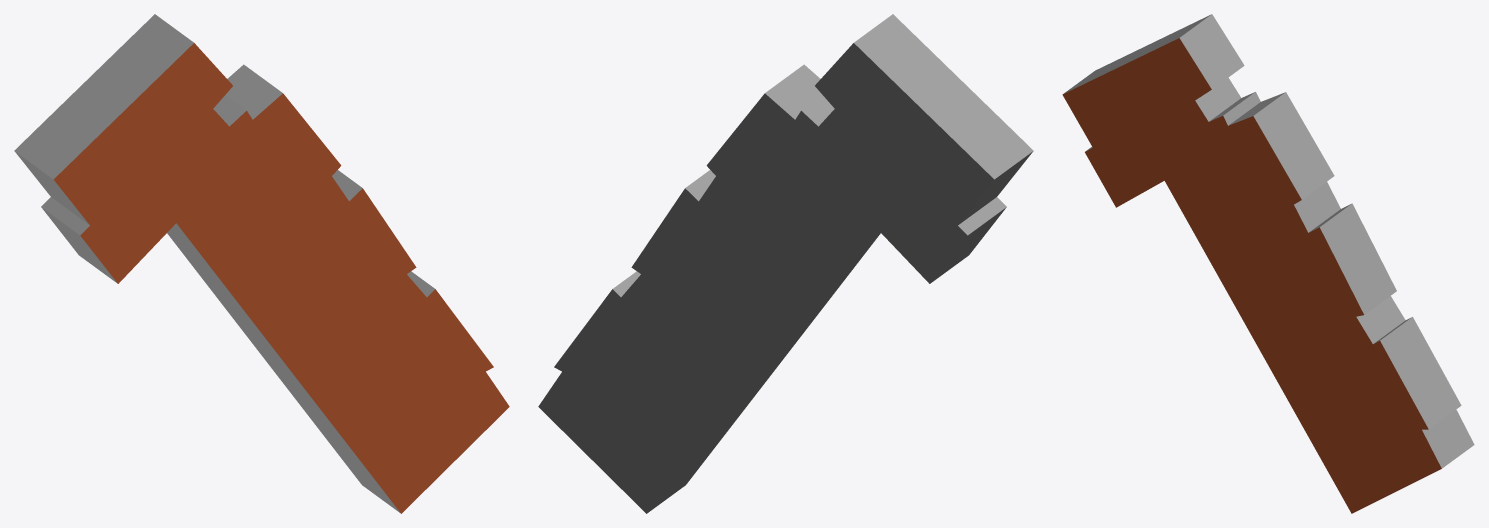
File: construction_6960_assumed_A_Casa_h6m.obj
3 renders of one model, left to right at view 1: azimuth 30°, elevation 25°; view 2: azimuth 150°, elevation 25°; view 3: azimuth 330°, elevation 25°, orthographic. The views are drawn at different scales.
Parts seen in each view (by area): view 1: construction_6960_assumed_A_Casa; view 2: construction_6960_assumed_A_Casa; view 3: construction_6960_assumed_A_Casa.
Boxes of the visible parts, x1,y1,x2,y2 form: construction_6960_assumed_A_Casa: [14, 14, 509, 513]; construction_6960_assumed_A_Casa: [538, 14, 1033, 513]; construction_6960_assumed_A_Casa: [1062, 14, 1474, 513].
Bounding box in the file's own units: 40.17 × 43.89 × 6.
